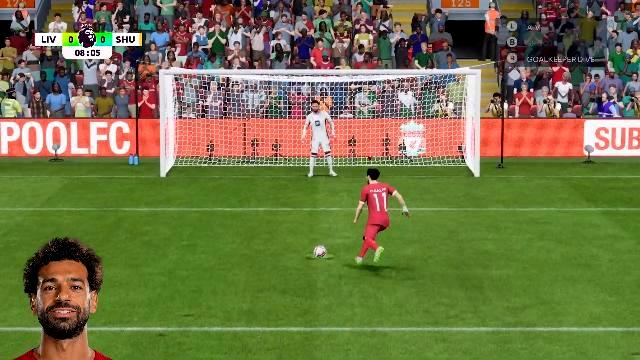bottom-left: (166, 134, 272, 178)
bottom-right: (370, 134, 476, 178)
center-down: (273, 134, 369, 178)
center-up: (274, 75, 370, 132)
circle: (309, 255, 331, 260)
football: (314, 246, 326, 256)
goalkeeper: (300, 102, 336, 182)
player: (352, 170, 411, 266)
top-left: (165, 75, 272, 132)
top-right: (370, 75, 476, 132)
